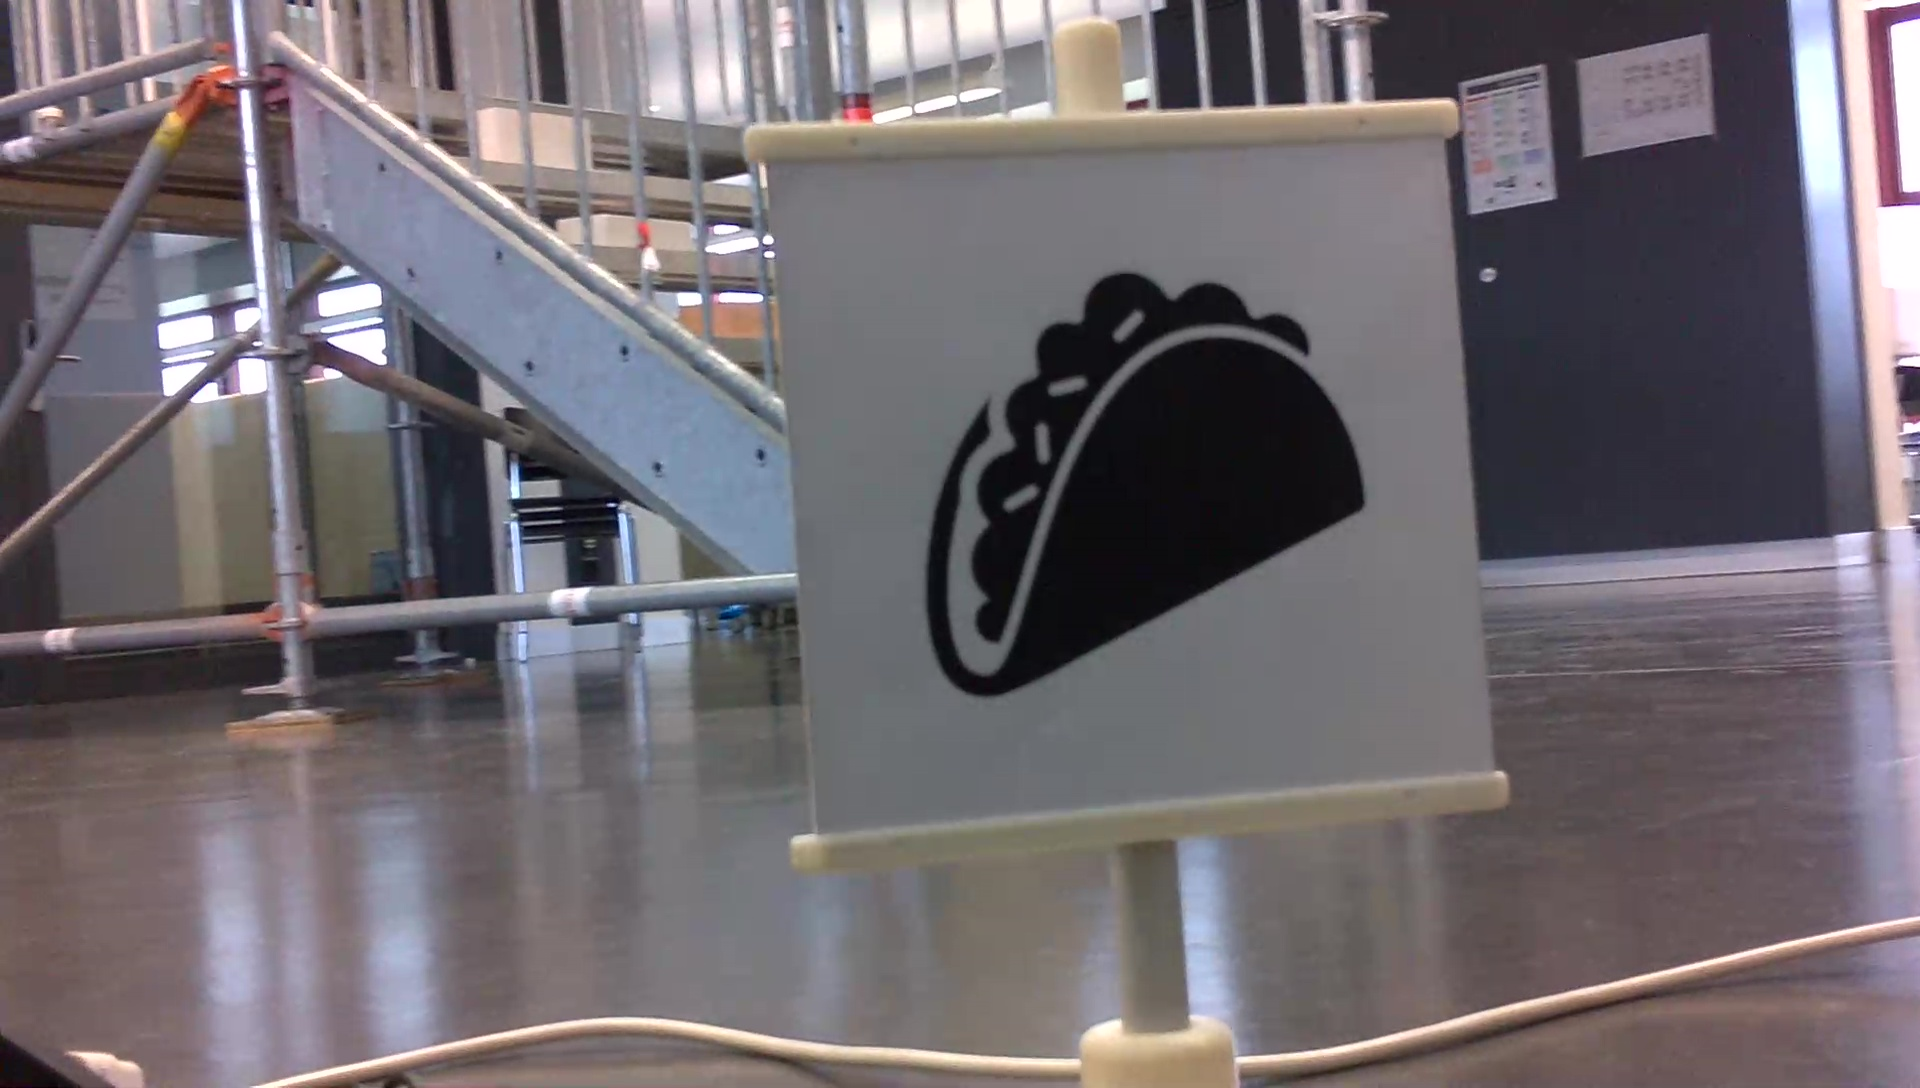taco: (907, 260, 1373, 708)
